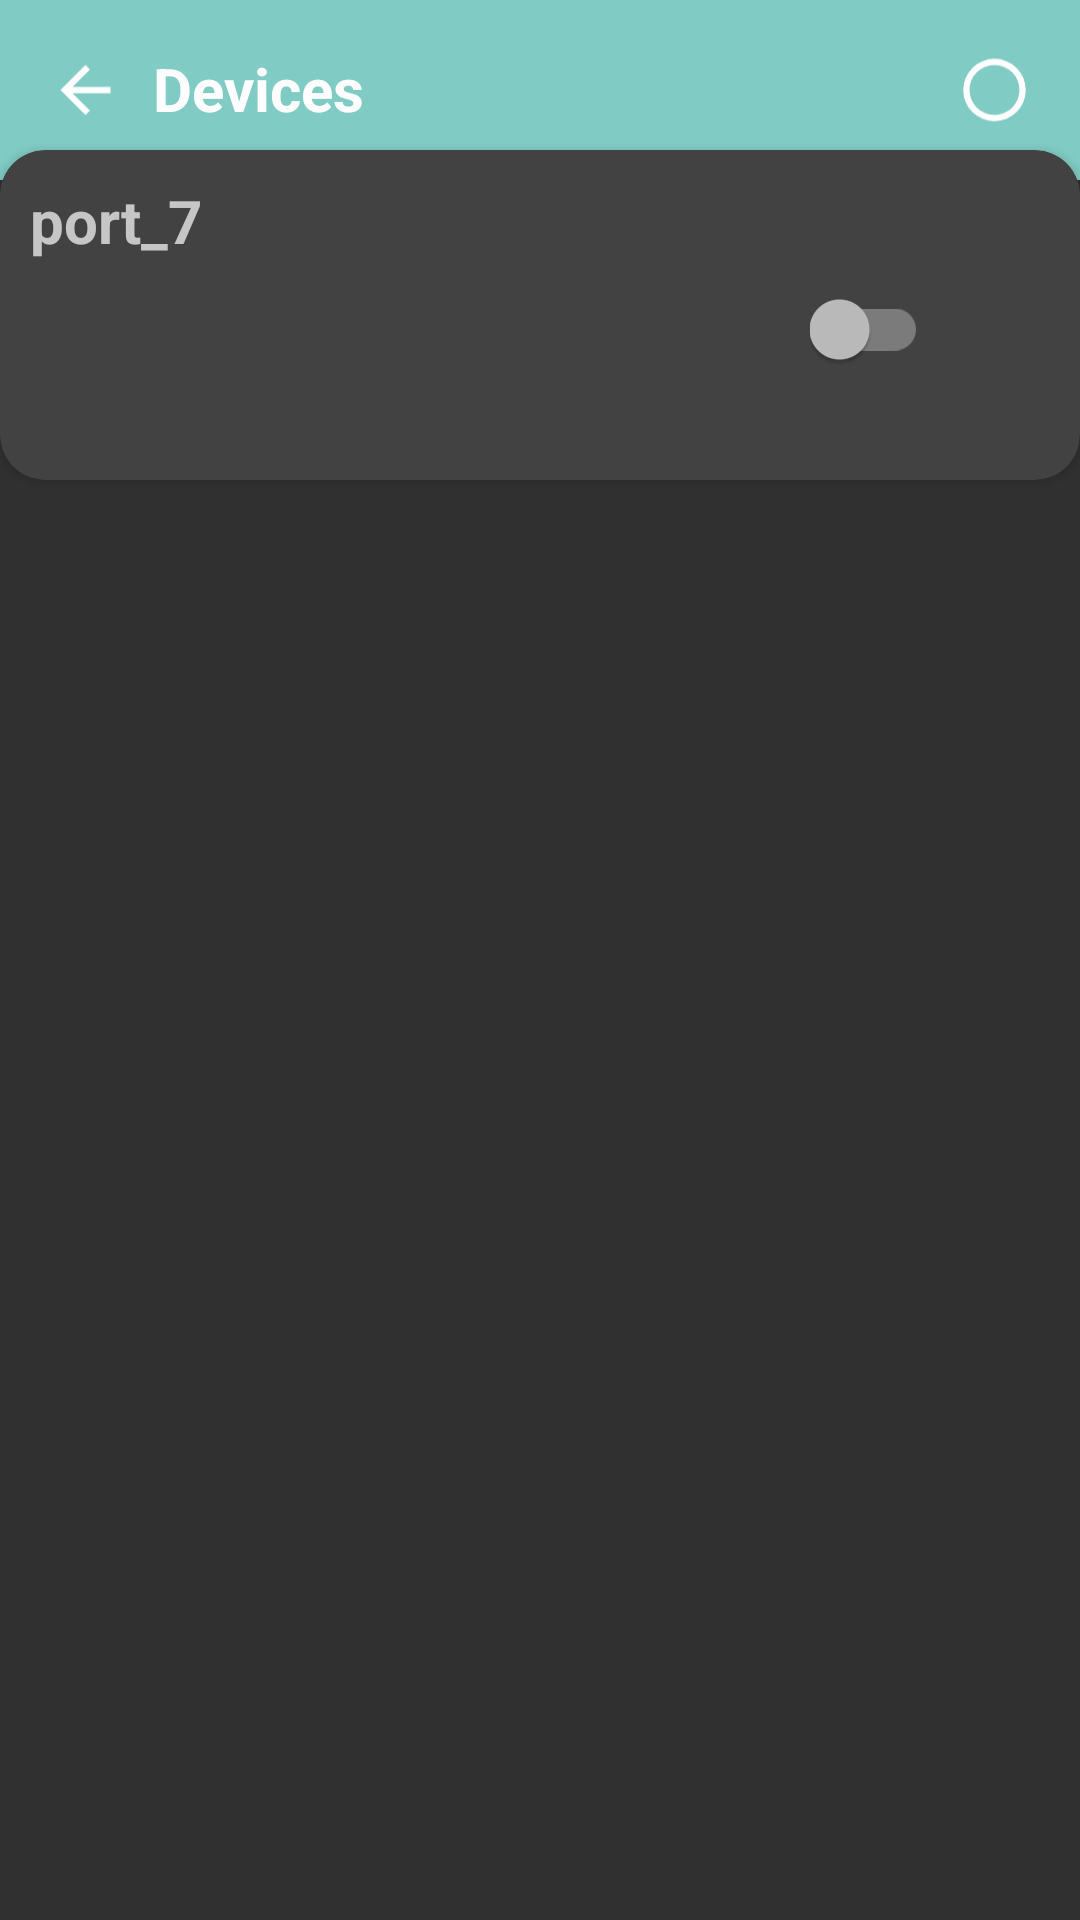

Point at icon controls on the screen. Image size 1080px×1920px, points as [x,y].
arrow back: [86,90]
